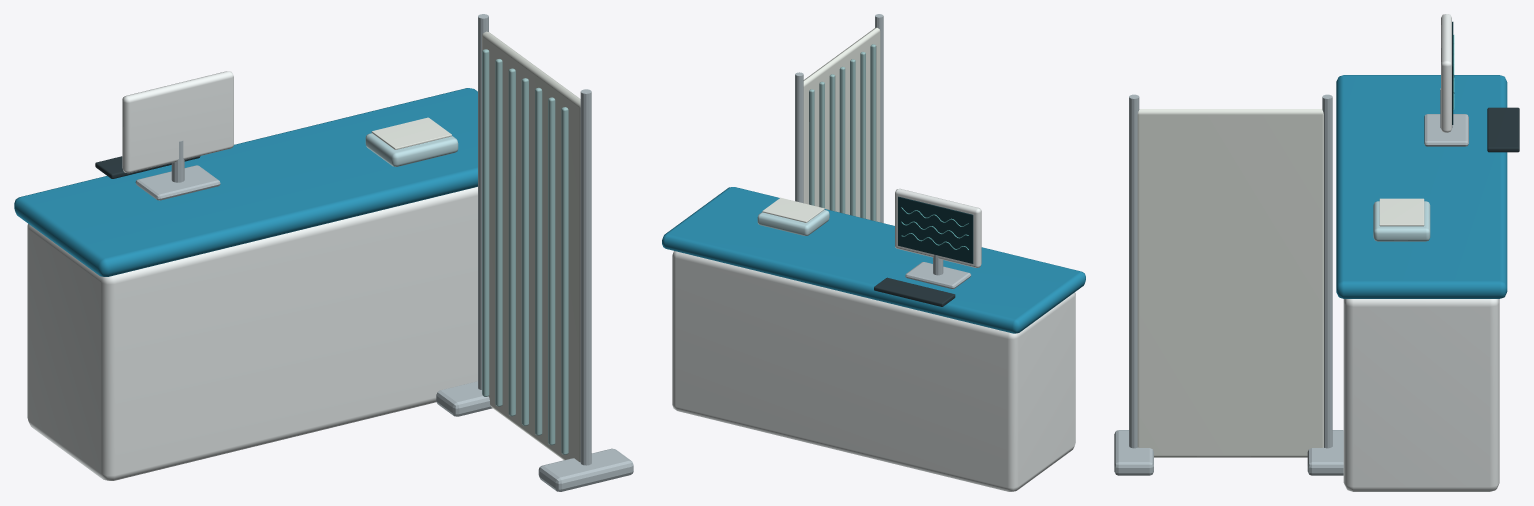
File: reception.glb
3 renders of one model, left to right at view 1: azimuth 30°, elevation 25°; view 2: azimuth 150°, elevation 25°; view 3: azimuth 270°, elevation 25°, orthographic. The views are drawn at different scales.
Parts seen in each view (by area): view 1: Accessible reception counter, Satin counter top, Fictional order form, Fabric screen fold, Admin swivel post, Document tray; view 2: Accessible reception counter, Satin counter top, Fictional order form, Fabric screen fold, Admin fictional display, Admin swivel post, Admin keyboard, Document tray; view 3: Fictional order form, Satin counter top, Accessible reception counter, Admin swivel post, Admin keyboard, Document tray.
Boxes of the visible parts, x1=… form: Accessible reception counter: x1=27, y1=71, x2=477, y2=480; Satin counter top: x1=14, y1=88, x2=477, y2=276; Fictional order form: x1=371, y1=31, x2=580, y2=462; Fabric screen fold: x1=482, y1=49, x2=568, y2=454; Admin swivel post: x1=135, y1=14, x2=633, y2=491; Document tray: x1=365, y1=133, x2=458, y2=166; Accessible reception counter: x1=672, y1=188, x2=1075, y2=491; Satin counter top: x1=662, y1=187, x2=1085, y2=333; Fictional order form: x1=762, y1=27, x2=880, y2=222; Fabric screen fold: x1=809, y1=44, x2=876, y2=221; Admin fictional display: x1=898, y1=196, x2=973, y2=263; Admin swivel post: x1=795, y1=14, x2=970, y2=289; Admin keyboard: x1=874, y1=277, x2=955, y2=306; Document tray: x1=757, y1=210, x2=829, y2=235; Fictional order form: x1=1137, y1=109, x2=1424, y2=457; Satin counter top: x1=1336, y1=75, x2=1507, y2=298; Accessible reception counter: x1=1343, y1=14, x2=1499, y2=491; Admin swivel post: x1=1114, y1=88, x2=1468, y2=475; Admin keyboard: x1=1487, y1=107, x2=1519, y2=152; Document tray: x1=1373, y1=201, x2=1430, y2=241.
Bounding box in the file's own units: 2.02 × 1.62 × 1.63.
